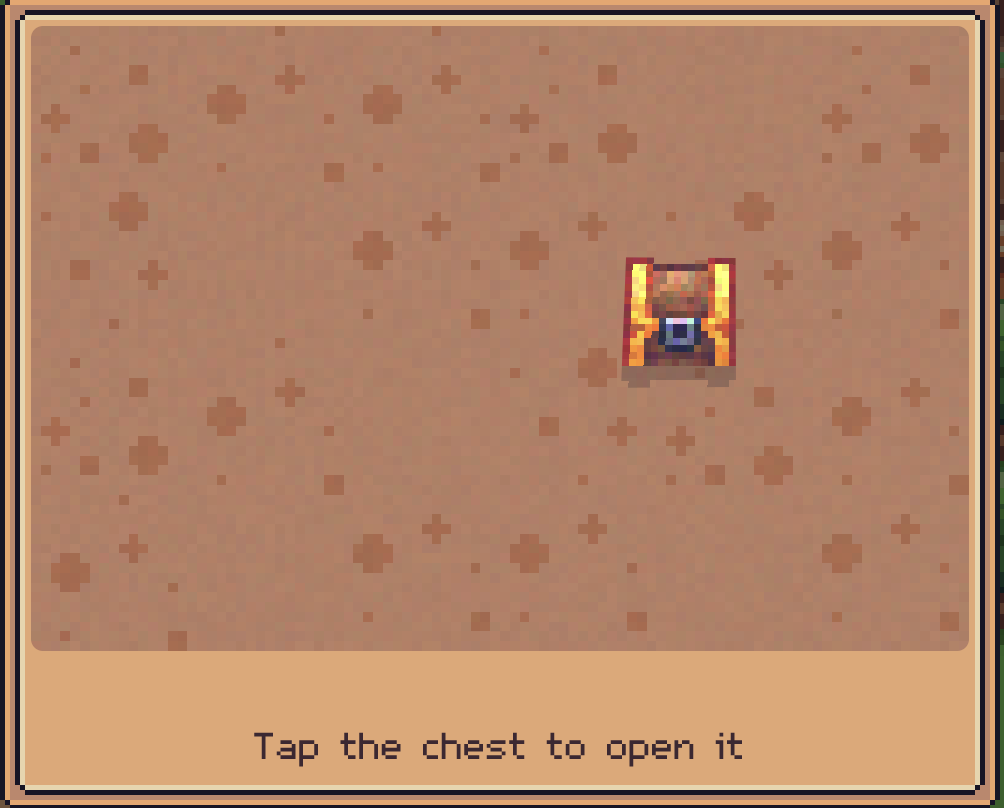capcha_chest: (620, 255, 738, 370)
